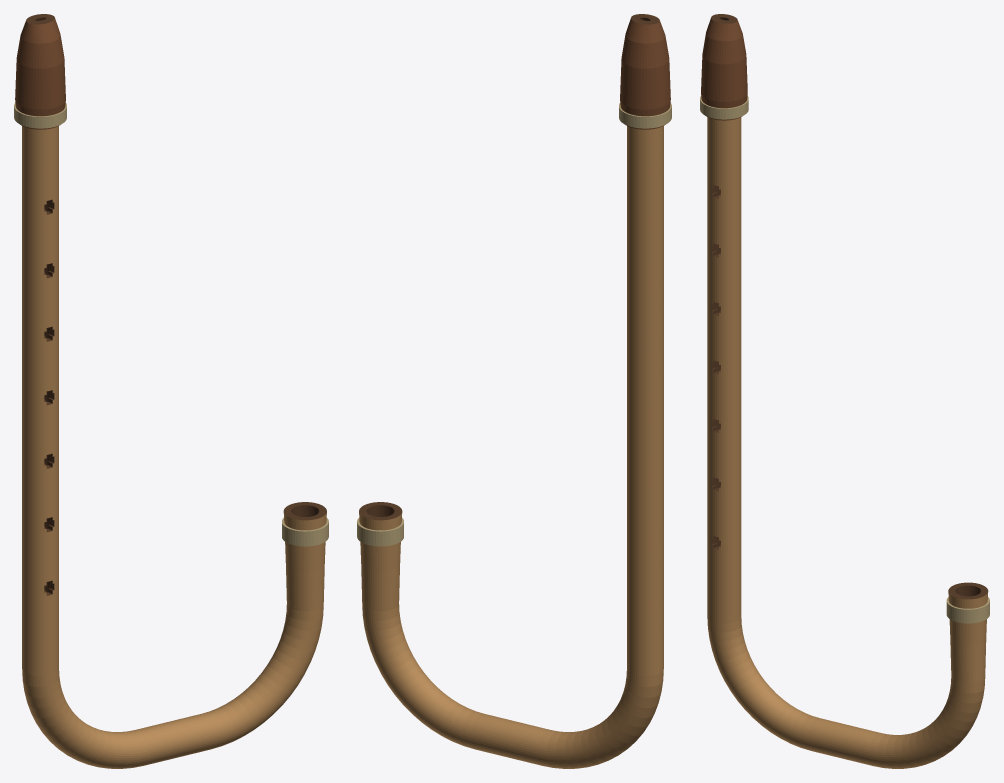
3 views of the same model, side by side, from view 1: azimuth 30°, elevation 25°; view 2: azimuth 150°, elevation 25°; view 3: azimuth 330°, elevation 25° (orthographic). The views are drawn at different scales.
Visible parts, largest first — view 1: WholeContinuousSevenPortJBody, WholeHollowSocketAndSlottedWindCap, WholeOpenCrookEndBand, WholeWindCapRootBand; view 2: WholeContinuousSevenPortJBody, WholeHollowSocketAndSlottedWindCap, WholeOpenCrookEndBand, WholeWindCapRootBand; view 3: WholeContinuousSevenPortJBody, WholeHollowSocketAndSlottedWindCap, WholeOpenCrookEndBand, WholeWindCapRootBand.
Part boxes in pixels (x1,y1,x2,y2): WholeContinuousSevenPortJBody: [22, 126, 326, 768]; WholeHollowSocketAndSlottedWindCap: [15, 14, 65, 129]; WholeOpenCrookEndBand: [282, 518, 328, 546]; WholeWindCapRootBand: [14, 103, 66, 128]; WholeContinuousSevenPortJBody: [359, 126, 663, 768]; WholeHollowSocketAndSlottedWindCap: [620, 14, 670, 129]; WholeOpenCrookEndBand: [357, 518, 403, 546]; WholeWindCapRootBand: [619, 103, 671, 128]; WholeContinuousSevenPortJBody: [707, 117, 988, 768]; WholeHollowSocketAndSlottedWindCap: [701, 14, 747, 120]; WholeOpenCrookEndBand: [946, 597, 989, 623]; WholeWindCapRootBand: [700, 95, 748, 119].
Size of the model in its own units: 0.2792 by 0.6665 by 0.0415.
